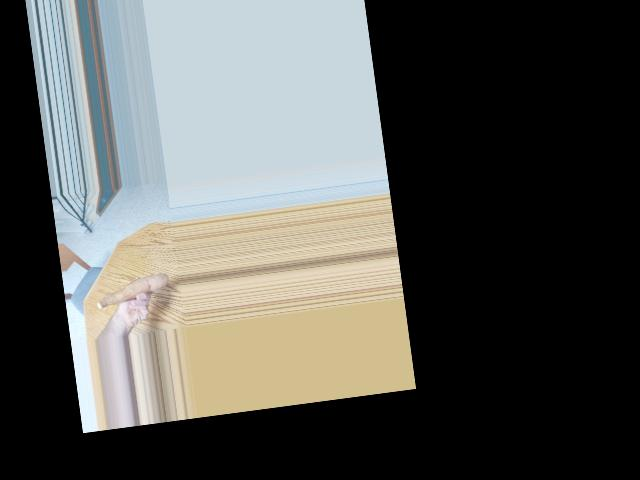sweet_potato: (94, 269, 169, 313)
